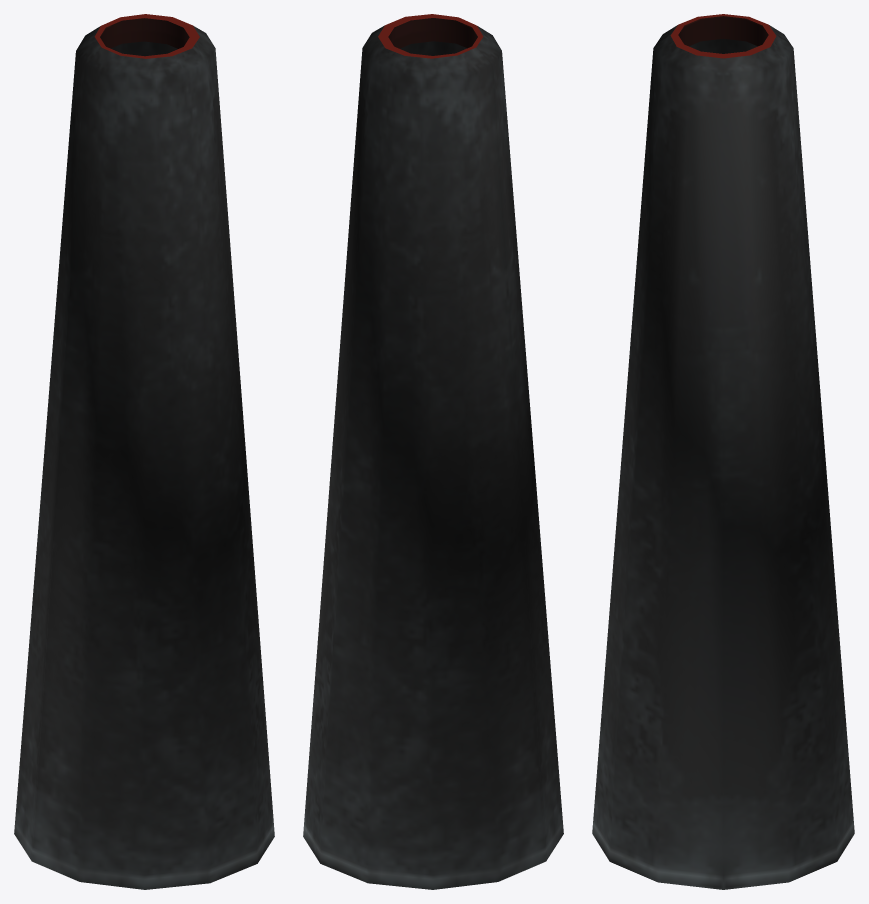
File: extintor_cifon.fbx
3 views of the same model, side by side, from view 1: azimuth 30°, elevation 25°; view 2: azimuth 150°, elevation 25°; view 3: azimuth 270°, elevation 25° (orthographic).
Visible parts, largest first — view 1: fire_extinguisher_c02; view 2: fire_extinguisher_c02; view 3: fire_extinguisher_c02.
Part boxes in pixels (x1,y1,x2,y2): fire_extinguisher_c02: (14, 14, 274, 889); fire_extinguisher_c02: (303, 14, 563, 889); fire_extinguisher_c02: (592, 14, 854, 889).
Bounding box in the file's own units: 4.49 × 15.23 × 4.53.
1 material, 1 textured.
